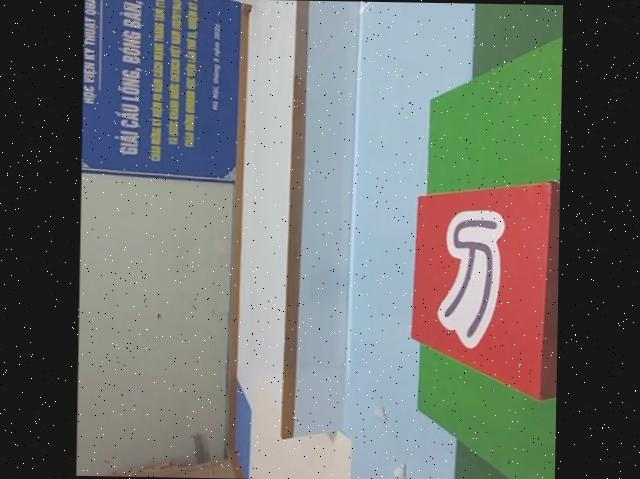R2 Fake: (407, 181, 561, 404)
